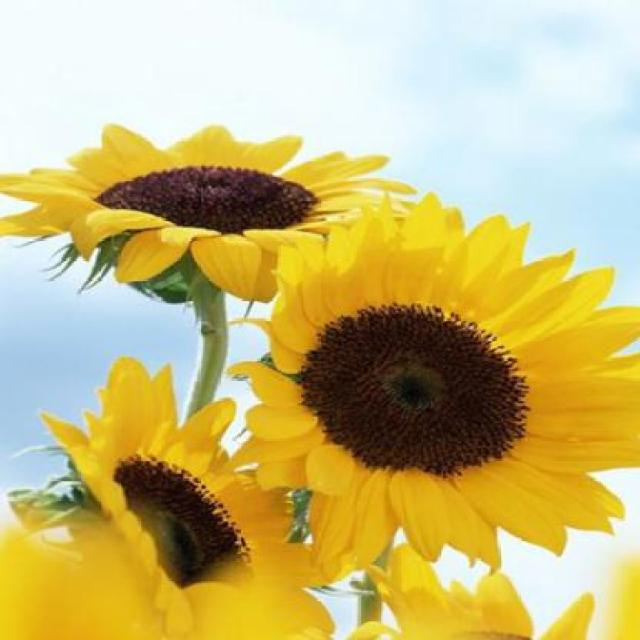sunflower: (204, 199, 638, 552), (37, 347, 335, 640), (1, 118, 424, 305)
